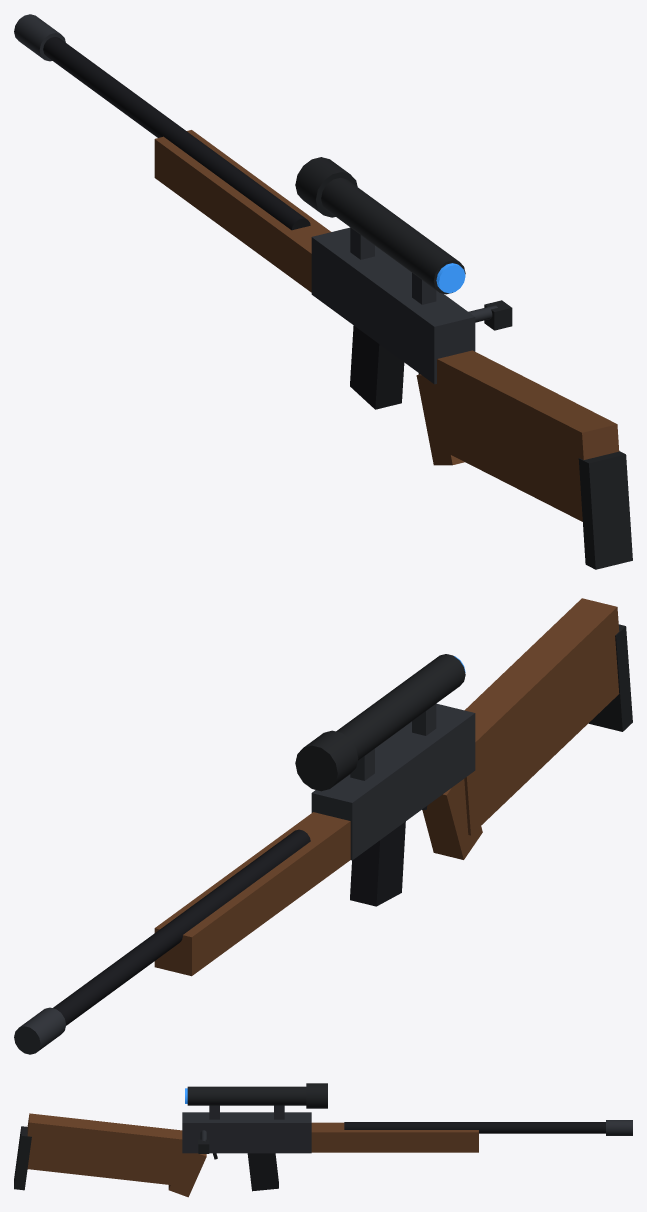
Rendered from rifle.glb.
3 views of the same model, one above another, from view 1: azimuth 30°, elevation 25°; view 2: azimuth 150°, elevation 25°; view 3: azimuth 270°, elevation 25° (orthographic). The views are drawn at different scales.
Visible parts, largest first — view 1: Culata, Cajon, Guardamano, Canon, Mira, Cantonera, Cargador, MiraObjetivo, BocaFuego, Empunadura; view 2: Culata, Cajon, Guardamano, Canon, Mira, Cargador, Empunadura, MiraObjetivo, Cantonera, BocaFuego; view 3: Culata, Cajon, Guardamano, Canon, Mira, Cargador, Cantonera, Empunadura, MiraObjetivo, BocaFuego.
Boxes of the visible parts, x1,y1,x2,y2 form: Culata: (431, 350, 619, 521); Cajon: (311, 227, 475, 384); Guardamano: (154, 130, 330, 292); Canon: (43, 37, 310, 230); Mira: (321, 177, 465, 294); Cantonera: (578, 451, 632, 569); Cargador: (350, 325, 404, 409); MiraObjetivo: (295, 157, 357, 217); BocaFuego: (14, 14, 65, 61); Empunadura: (416, 374, 464, 465); Culata: (464, 598, 619, 835); Cajon: (311, 703, 475, 860); Guardamano: (154, 812, 350, 976); Canon: (53, 829, 310, 1025); Mira: (336, 654, 465, 760); Cargador: (350, 821, 405, 906); Empunadura: (422, 779, 482, 859); MiraObjetivo: (295, 730, 358, 791); Cantonera: (588, 624, 632, 731); BocaFuego: (14, 1007, 65, 1054); Culata: (27, 1113, 188, 1186); Cajon: (182, 1112, 311, 1153); Guardamano: (311, 1122, 478, 1152); Canon: (344, 1122, 605, 1133); Mira: (187, 1086, 306, 1105); Cargador: (247, 1153, 278, 1191); Cantonera: (14, 1126, 31, 1190); Empunadura: (168, 1153, 206, 1197); MiraObjetivo: (306, 1083, 327, 1108); BocaFuego: (606, 1120, 632, 1135).
Bounding box in the file's own units: 0.106 × 0.2226 × 1.15.
